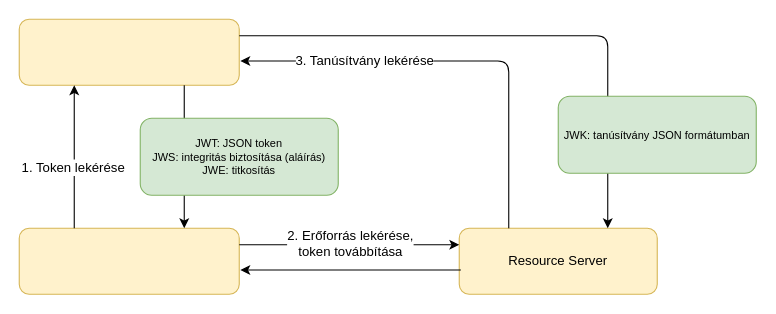
The diagram is 776 pixels wide and 314 high, and some of its shapes have lost their labels. The centre of each missing label's shape, as x and y in pixels:
"Authorization Server" goes at (128,51).
"Client" goes at (128,260).
